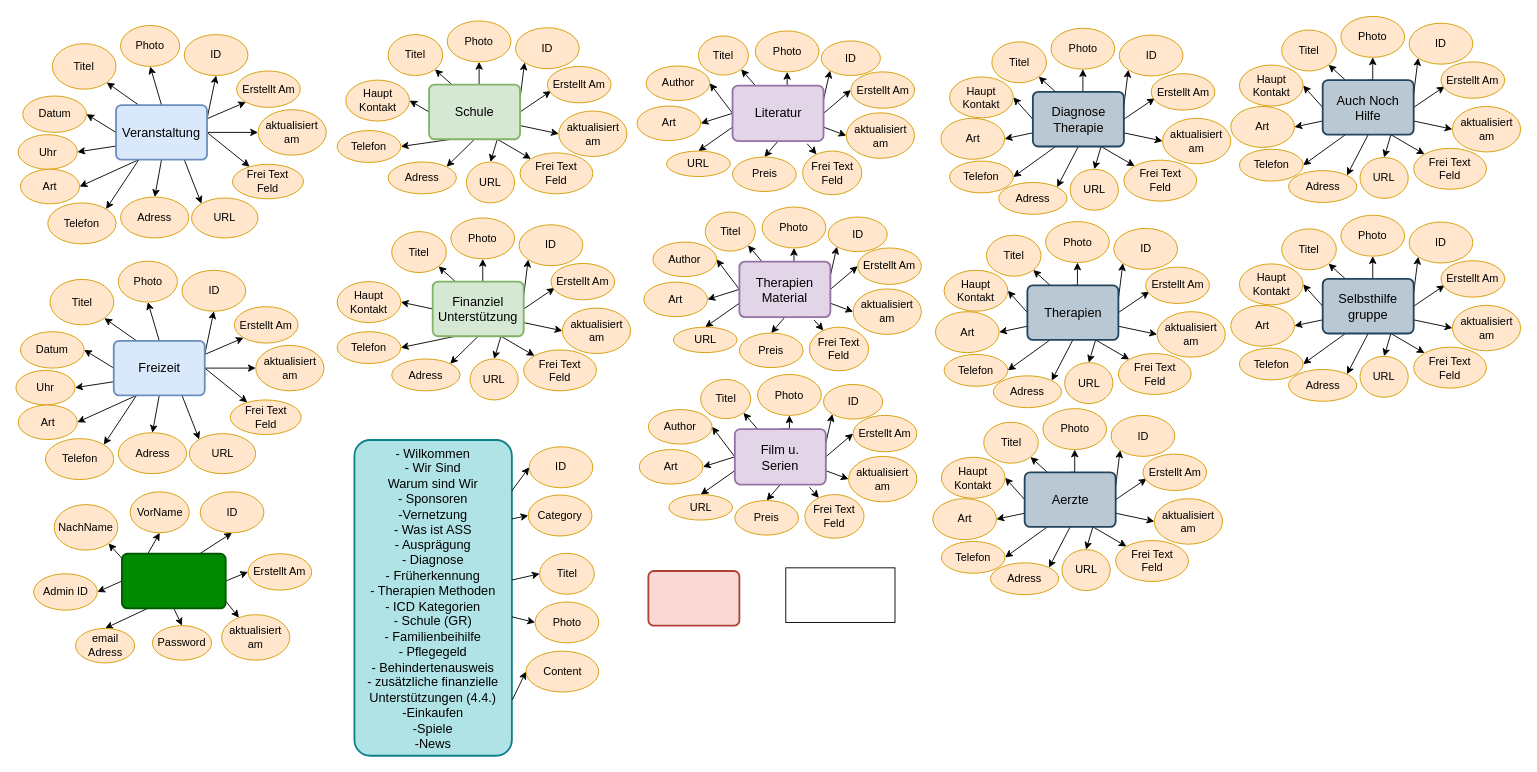
The diagram is 1537 pixels wide and 772 high, and some of its shapes have lost their labels. Each missing label, with the centre of its shape:
"Administratoren" belongs at point (173, 580).
"All Same Coloured Boxes are same DB Background" belongs at point (840, 594).
"Forum???" belongs at point (693, 598).
